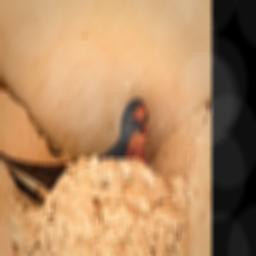Swallow: (0, 95, 151, 217)
